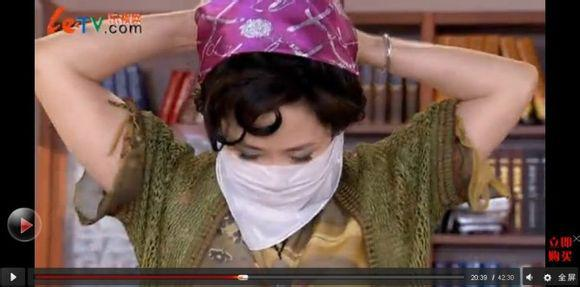OK: (225, 128, 327, 230)
